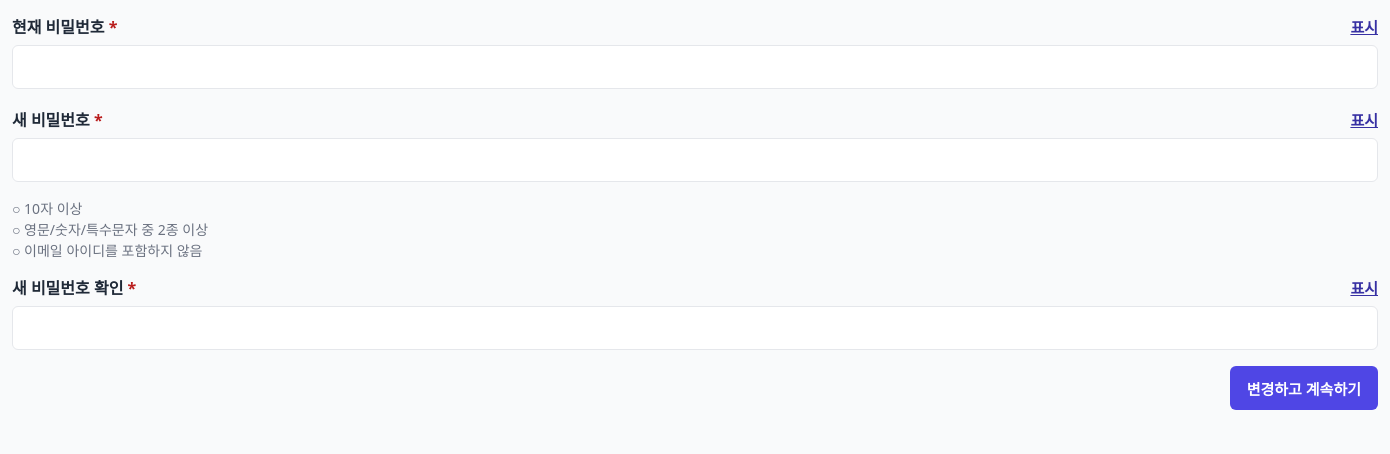
Test case: ChangePasswordForm — 401 코드 분기(EX-12-8) › INVALID_CREDENTIALS는 "현재 비밀번호" 필드 오류로 표시되고 로그아웃되지 않는다
Type "wrong-current-pw" into the password field labelled "현재 비밀번호 *" at {"x": 695, "y": 67}, box [12,45,1378,89]
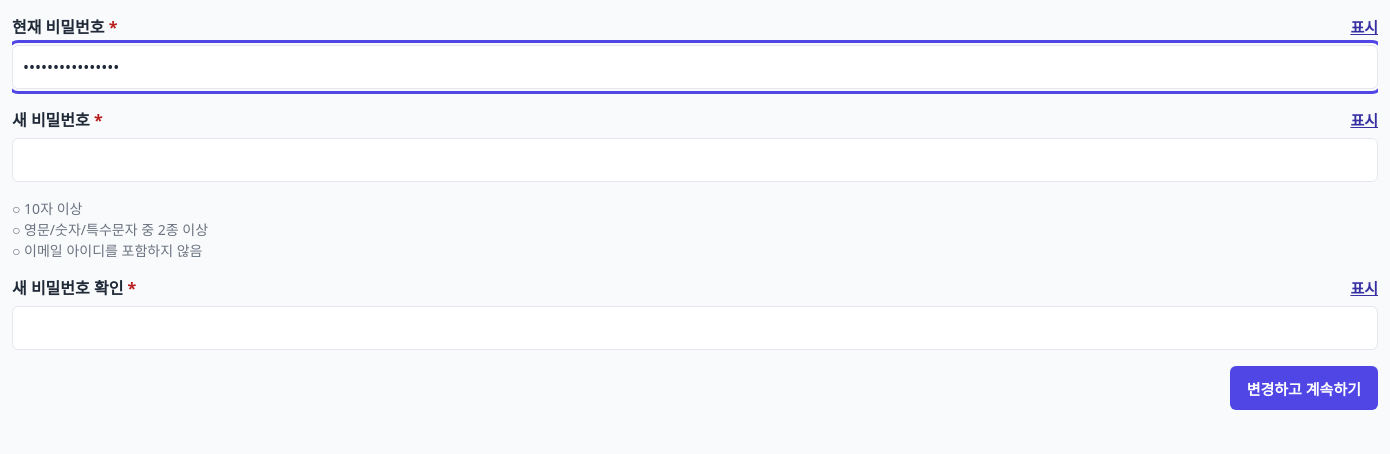
Type "New-Password#123" into the password field labelled "새 비밀번호 *" at {"x": 695, "y": 160}, box [12,138,1378,182]
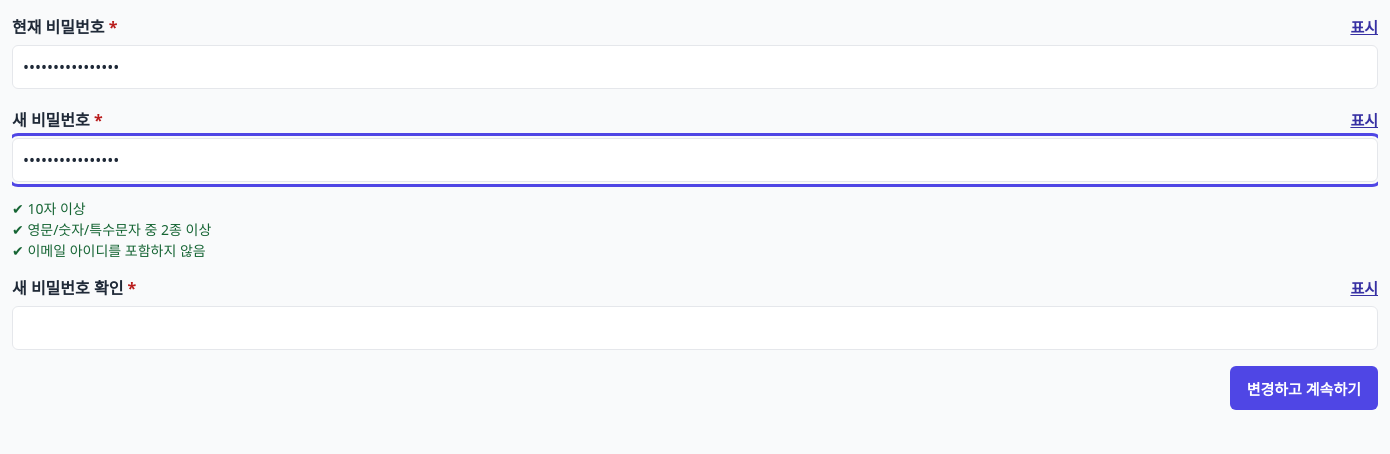
Type "New-Password#123" into the password field labelled "새 비밀번호 확인 *" at {"x": 695, "y": 328}, box [12,306,1378,350]
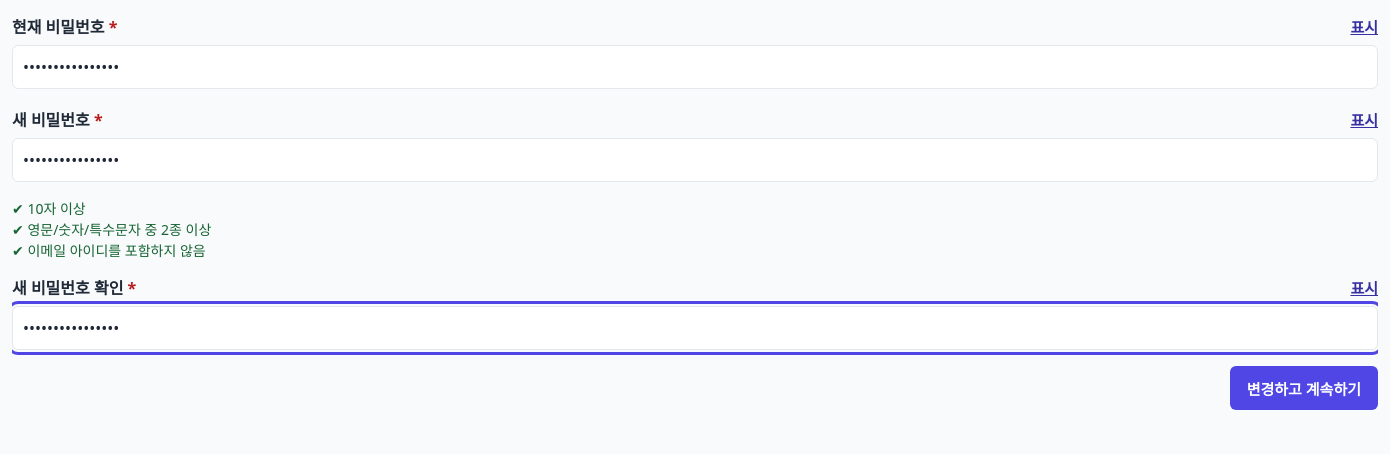
Click the button "변경하고 계속하기" at {"x": 1304, "y": 388}, box [1230,366,1378,410]
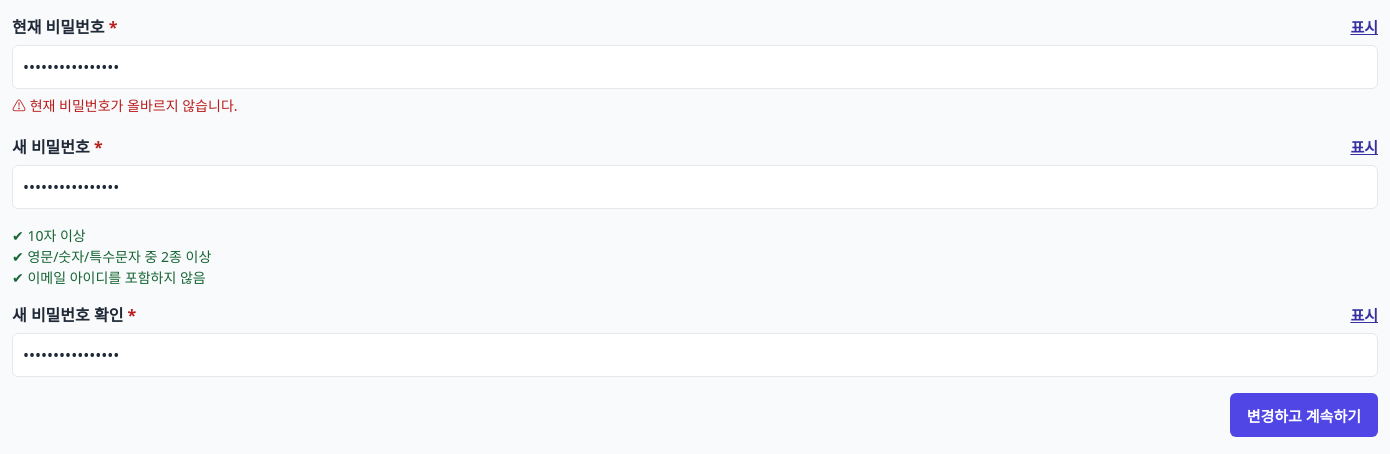
Check: the text "현재 비밀번호가 올바르지 않습니다." is shown, box [30,96,238,115]
